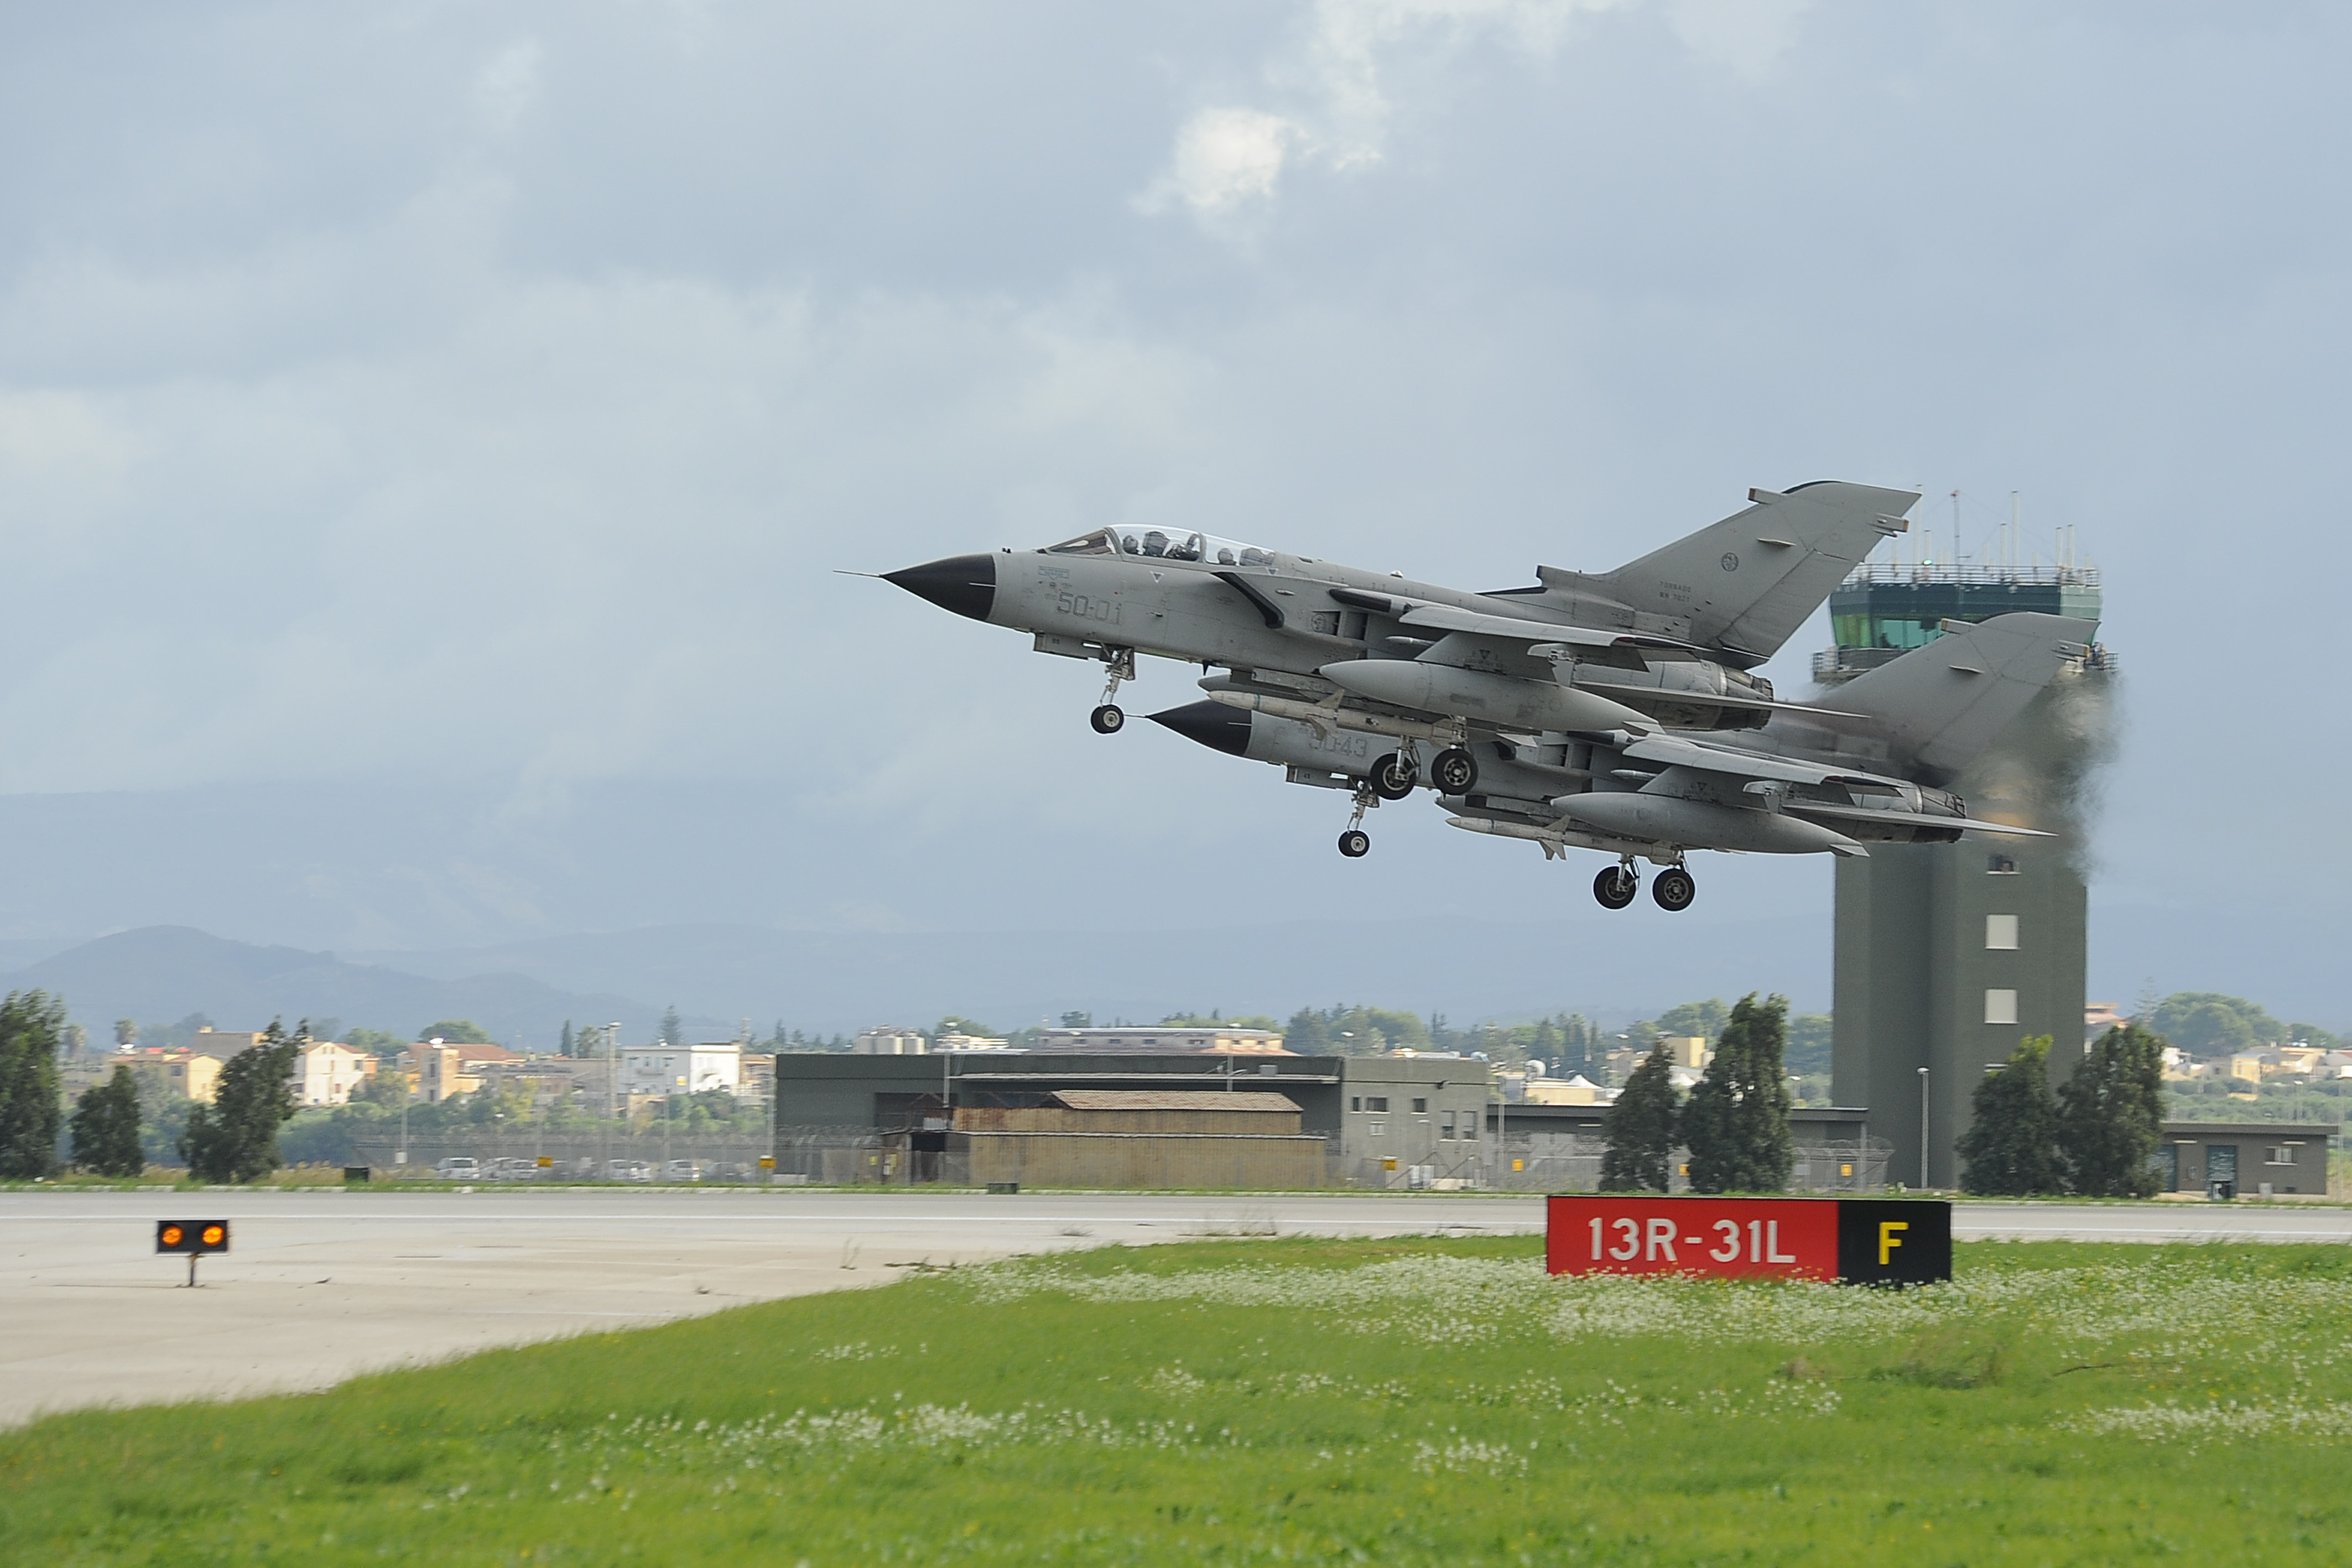Tornado: (831, 479, 1923, 801), (1123, 611, 2103, 912)
